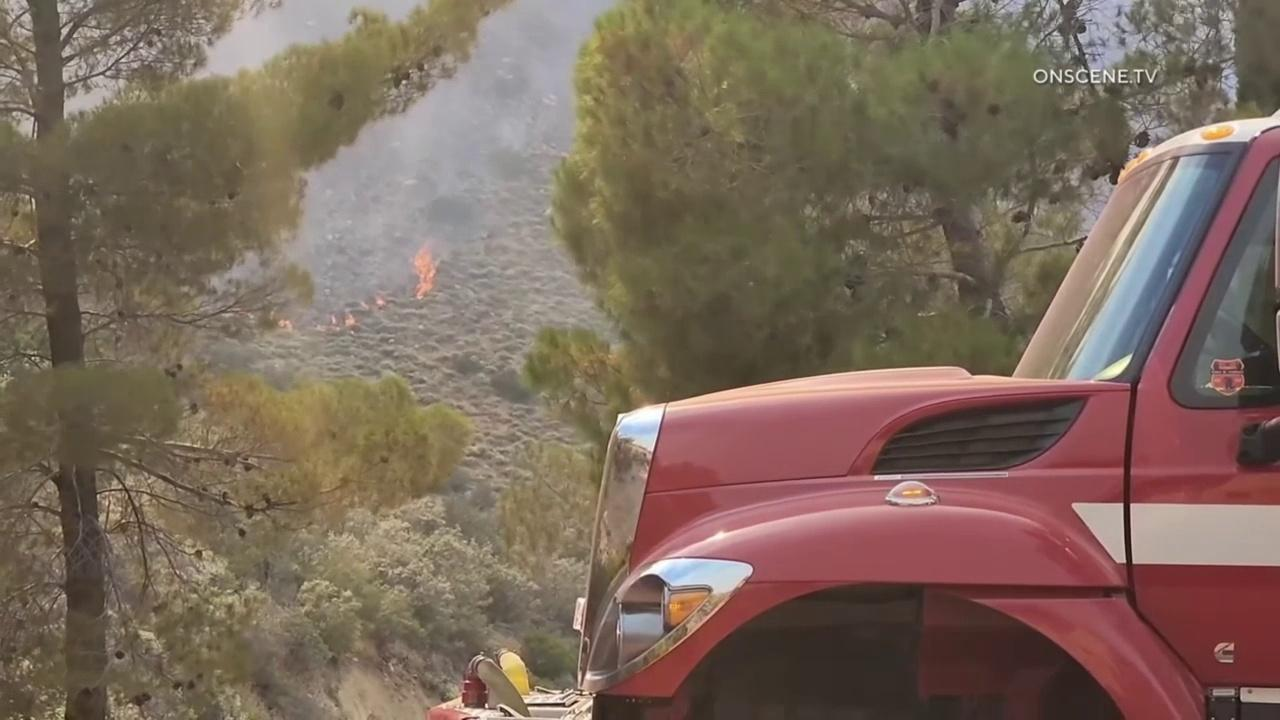fire: (407, 239, 443, 301), (328, 314, 341, 334), (343, 311, 356, 330), (276, 320, 294, 331), (375, 296, 388, 309), (359, 299, 372, 311)
smoke: (57, 0, 624, 308)
